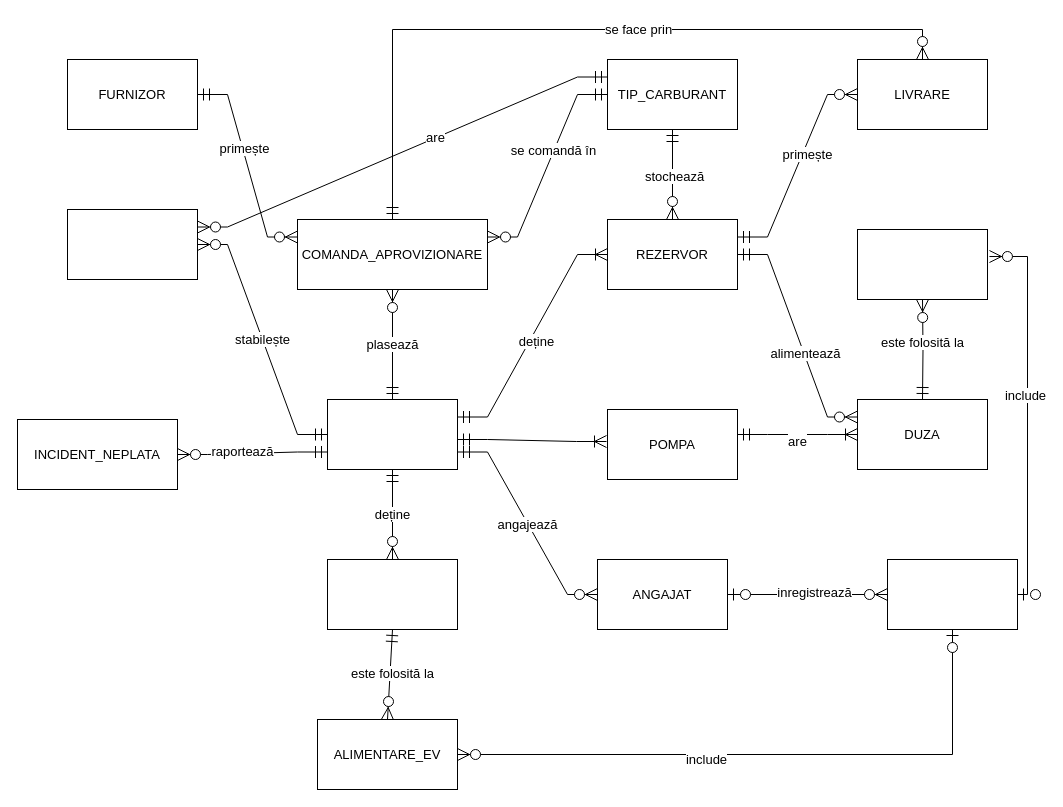
This 1063x807 diagram has some shape labels left out. The centre of each missing label's shape, as x and y in pixels:
"ALIMENTARE" goes at point (922, 264).
"PRET_CARBURANT" goes at point (132, 244).
"STATIE" goes at point (392, 434).
"STATIE_EV" goes at point (392, 594).
"TRANZACTIE" goes at point (952, 594).
